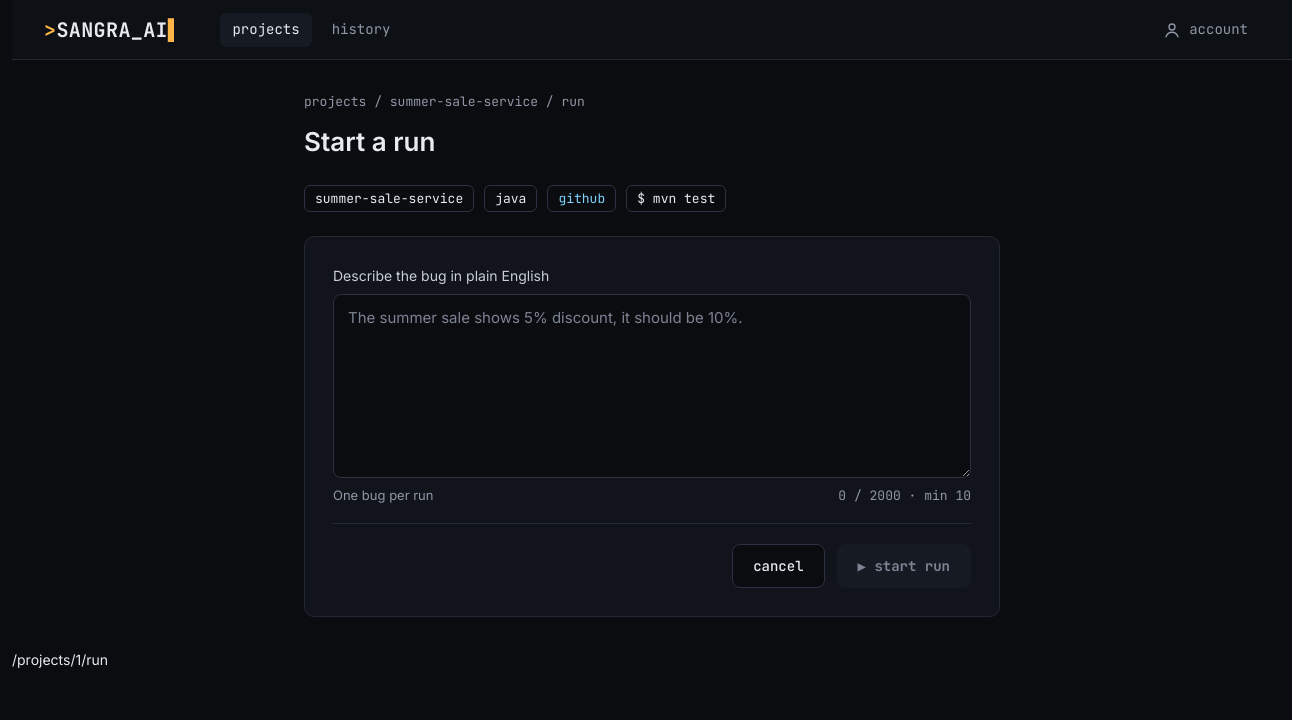
Test: start a run › FE4-X01: 10 characters -> the button is 1234567890
Type "1234567890" into the text box labelled "Describe the bug in plain English". click: [652, 386]
box: [333, 294, 971, 478]
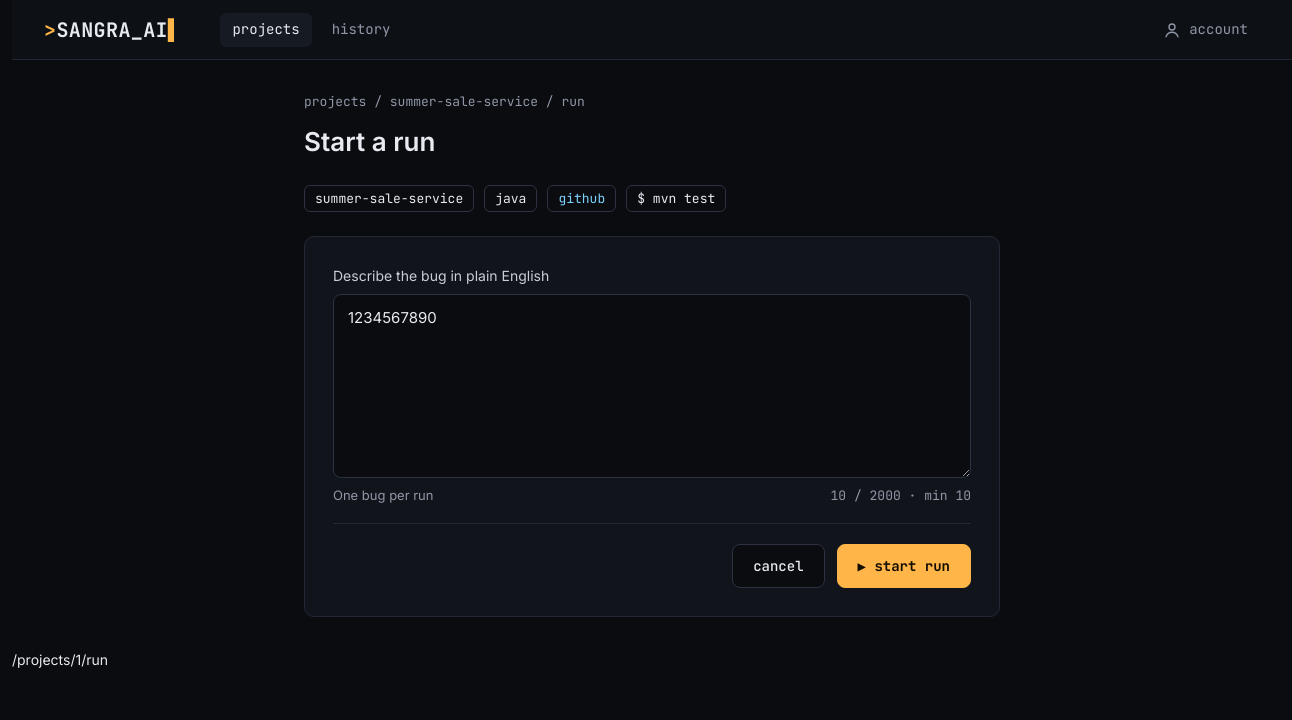
Expected: the button "▶ start run" is enabled, [837, 544, 971, 588]
